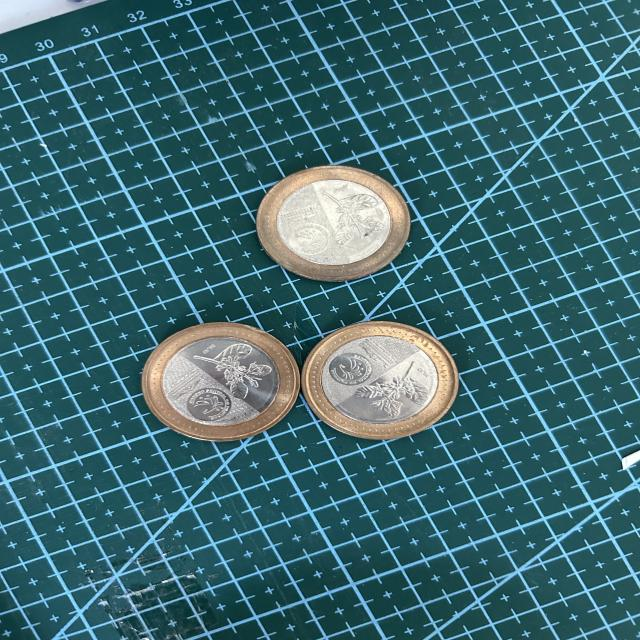20_New_Back: (190, 342, 275, 401), (352, 358, 432, 417)
